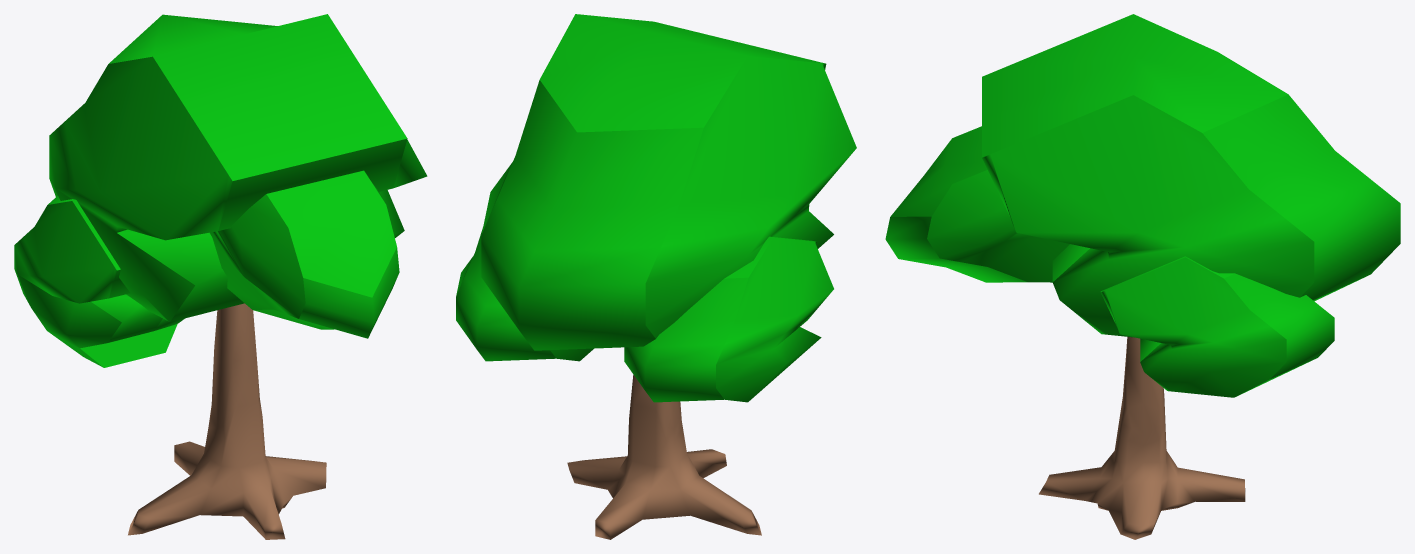
File: SM_Tree.fbx
3 renders of one model, left to right at view 1: azimuth 30°, elevation 25°; view 2: azimuth 150°, elevation 25°; view 3: azimuth 270°, elevation 25°, orthographic. The views are drawn at different scales.
Parts seen in each view (by area): view 1: SM_tree; view 2: SM_tree; view 3: SM_tree.
Boxes of the visible parts, x1=… form: SM_tree: x1=14, y1=14, x2=427, y2=539; SM_tree: x1=456, y1=14, x2=856, y2=539; SM_tree: x1=885, y1=14, x2=1400, y2=539.
Bounding box in the file's own units: 24.91 × 35.84 × 36.89.
